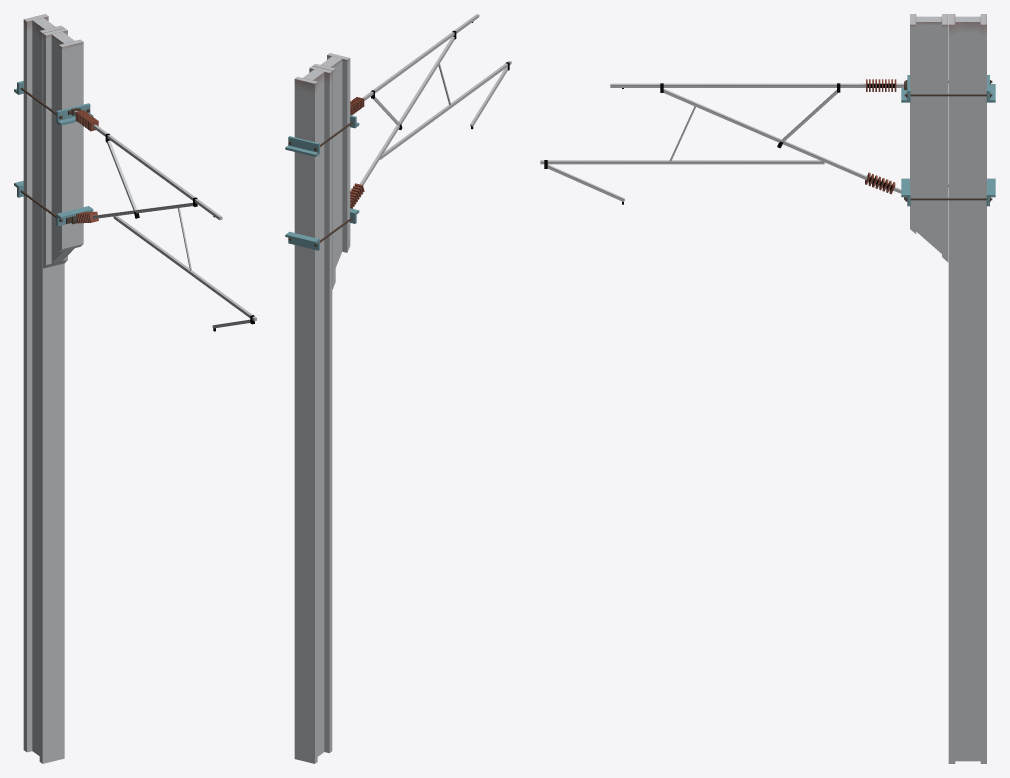
File: double_column_anti.obj
The picture shows the model from 3 angles, left to right: view 1: azimuth 30°, elevation 25°; view 2: azimuth 150°, elevation 25°; view 3: azimuth 270°, elevation 25°; orthographic projection. The views are drawn at different scales.
Visible parts, largest first — view 1: catenary.001, catenary.002, catenary_anti; view 2: catenary.001, catenary_anti, catenary.002; view 3: catenary.001, catenary.002, catenary_anti.
Part boxes in pixels (x1,y1,x2,y2): catenary.001: (23, 14, 64, 763); catenary.002: (43, 28, 83, 268); catenary_anti: (14, 81, 256, 331); catenary.001: (294, 66, 332, 763); catenary_anti: (285, 14, 511, 250); catenary.002: (312, 53, 350, 289); catenary.001: (948, 14, 986, 763); catenary.002: (910, 14, 948, 262); catenary_anti: (540, 75, 995, 206).
Bounding box in the file's own units: 0.375 × 8 × 4.47.
2 materials, 2 textured.
